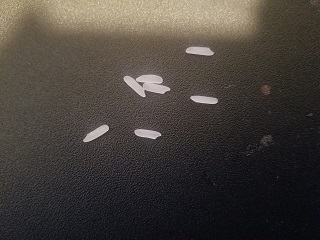egg: (81, 123, 109, 142), (122, 75, 146, 97), (133, 127, 162, 139), (143, 82, 171, 94), (135, 73, 163, 85), (186, 45, 215, 56), (189, 95, 219, 103)
